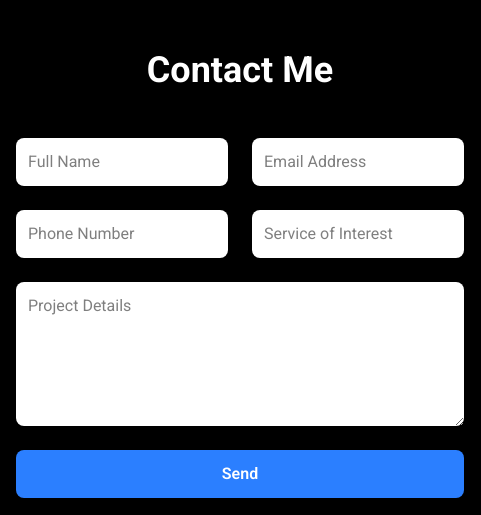
Test: Contact Component › shows a success modal on successful form submission
In the field with placeholder "Full Name": (122, 162) [16,138,228,186], type "John Doe"
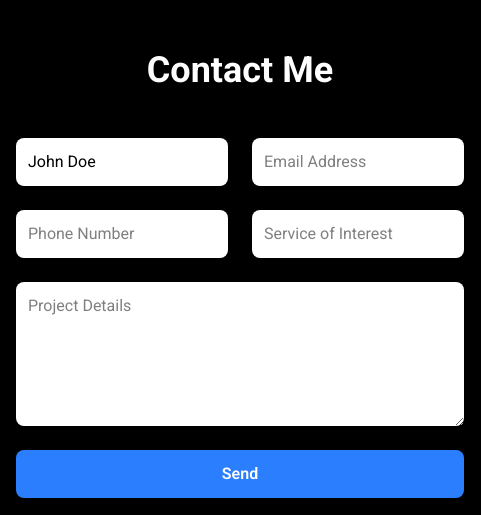
In the field with placeholder "Email Address": (358, 162) [252,138,464,186], type "john@example.com"
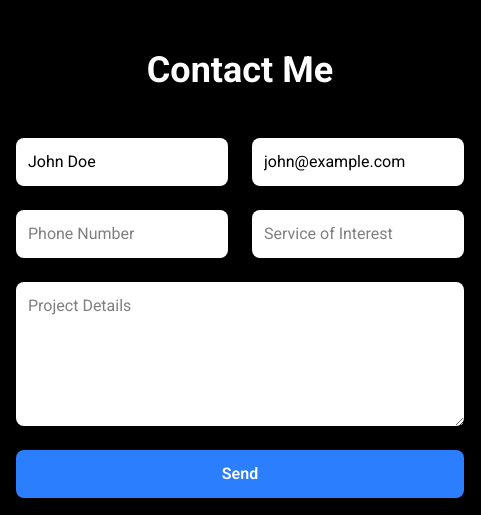
In the field with placeholder "Phone Number": (122, 234) [16,210,228,258], type "1234567890"
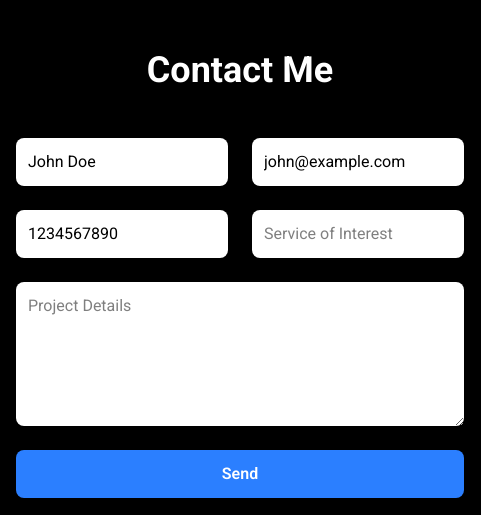
In the field with placeholder "Service of Interest": (358, 234) [252,210,464,258], type "Web Development"
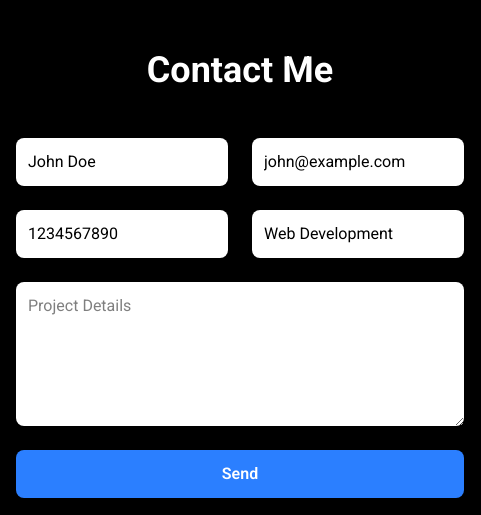
In the text box with placeholder "Project Details": (240, 354) [16,282,464,426], type "Build a portfolio website"
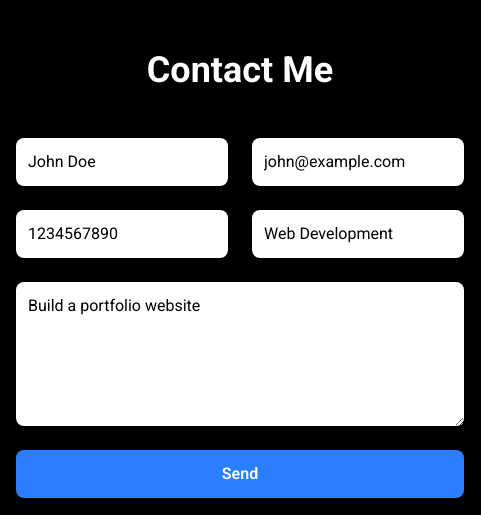
Click the button "Send": (240, 474) [16,450,464,498]
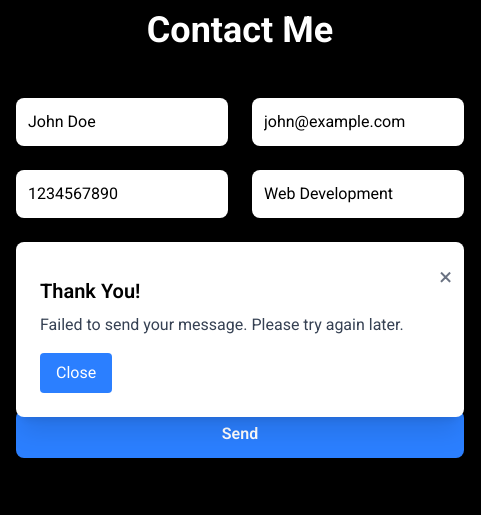
Now the heading "Thank You!" is shown, box [40,279,140,303]
